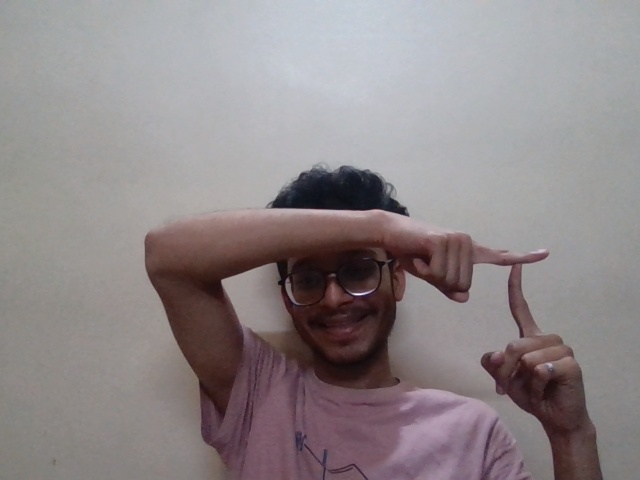T: (433, 216, 596, 421)
